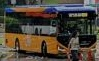bus: (81, 12, 87, 16)
